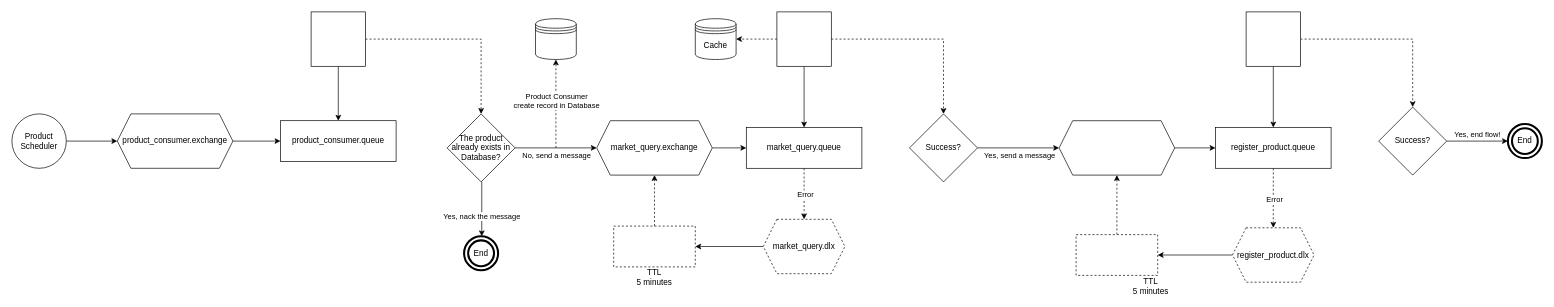
Image size: 1554x307. Some labels were removed from this diagram. The centre of each missing label's shape, as x and y in pixels:
Market Query: the point at 803,38
markey_query.dlq: the point at 654,246
Product Consumer: the point at 338,38
Register Product: the point at 1272,38
register_product.dlq: the point at 1116,254
register_product.exchange: the point at 1116,147
SQL: the point at 555,39
